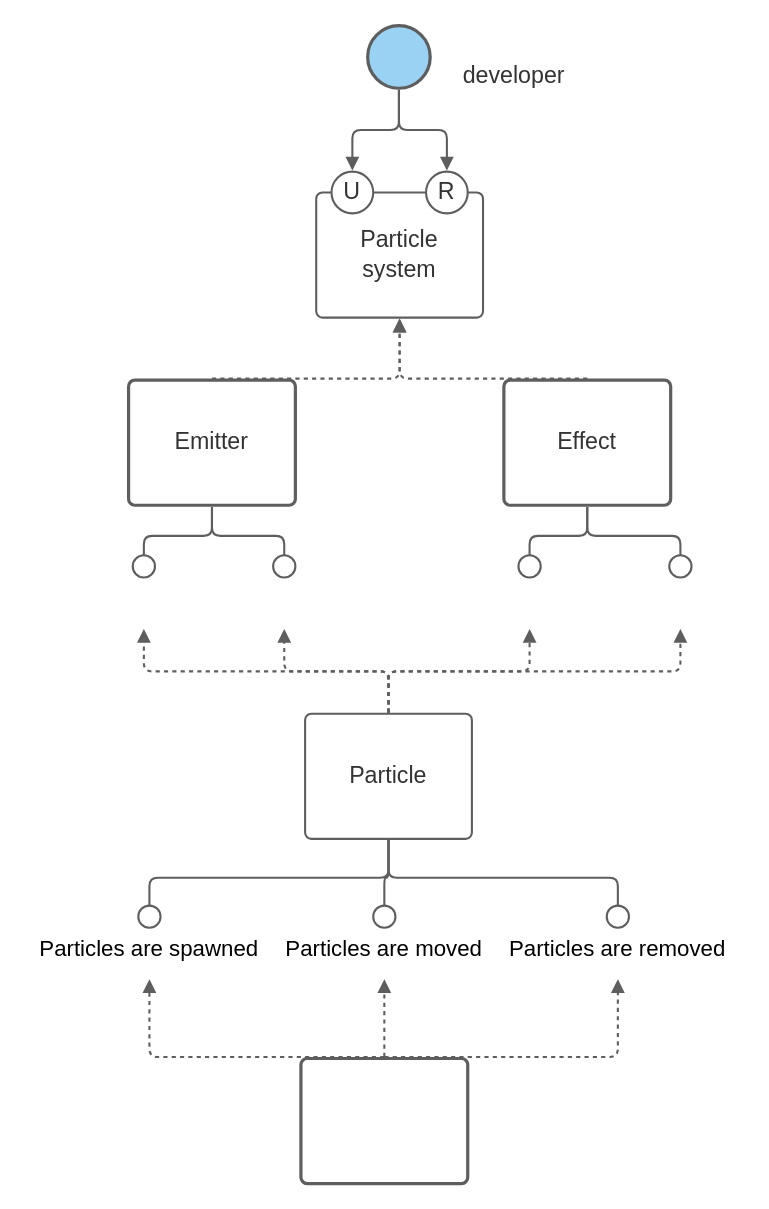
Some shapes in this 769 by 1209 pixel diagram are drawn without their labels. Here are the shapes that lost their labels. From the top down, the box of each, then its label:
(74, 565, 212, 629): Uniform
(157, 565, 410, 629): Directional
(449, 565, 609, 629): Gravity Wel
(637, 565, 723, 629): Wind
(299, 1056, 469, 1185): Render particle system
